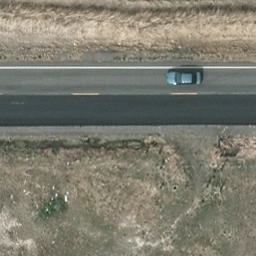car: (164, 70, 203, 88)
